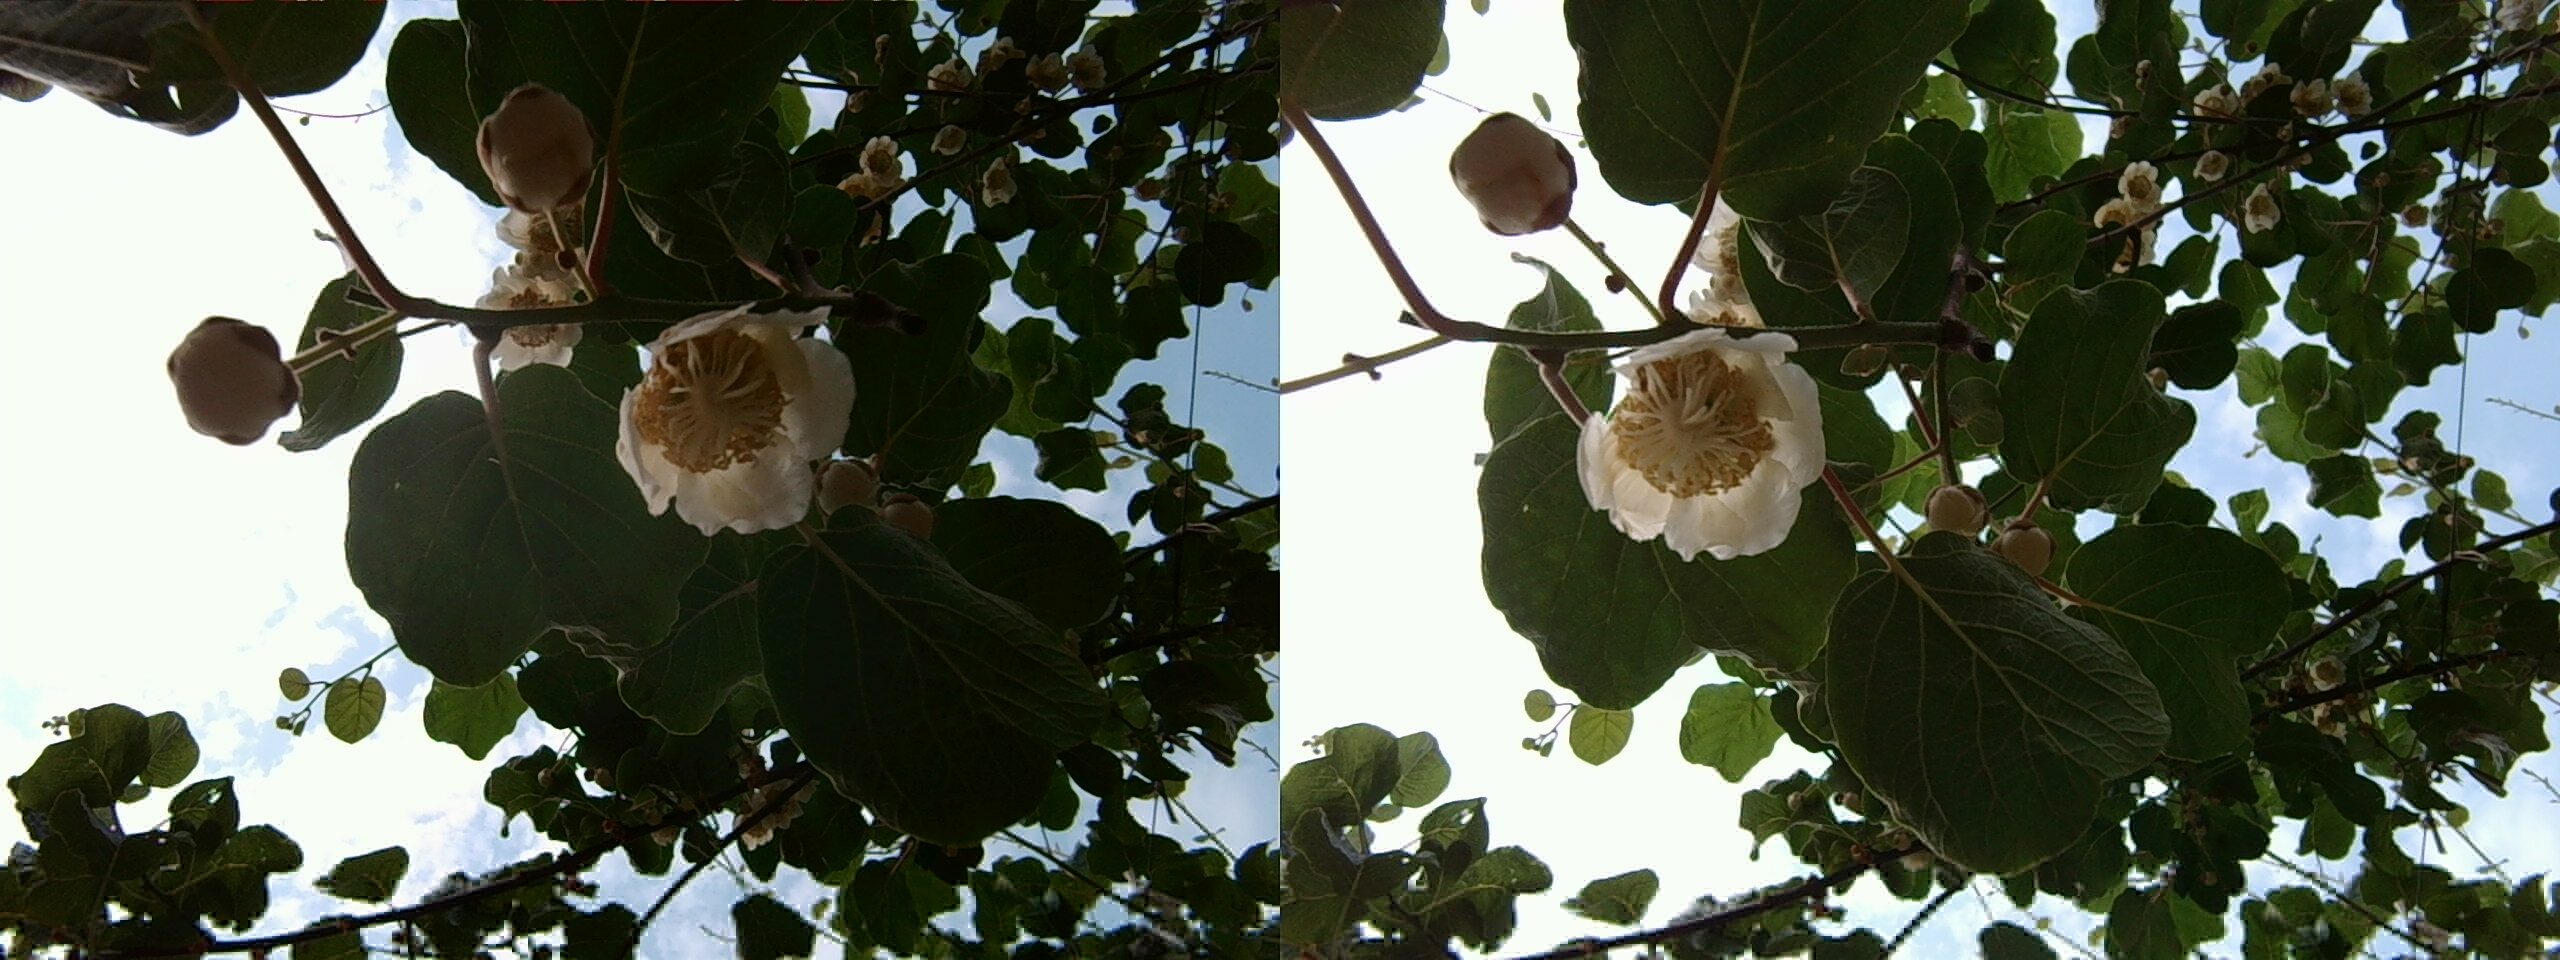flower: (604, 291, 847, 531), (1572, 318, 1816, 555)
